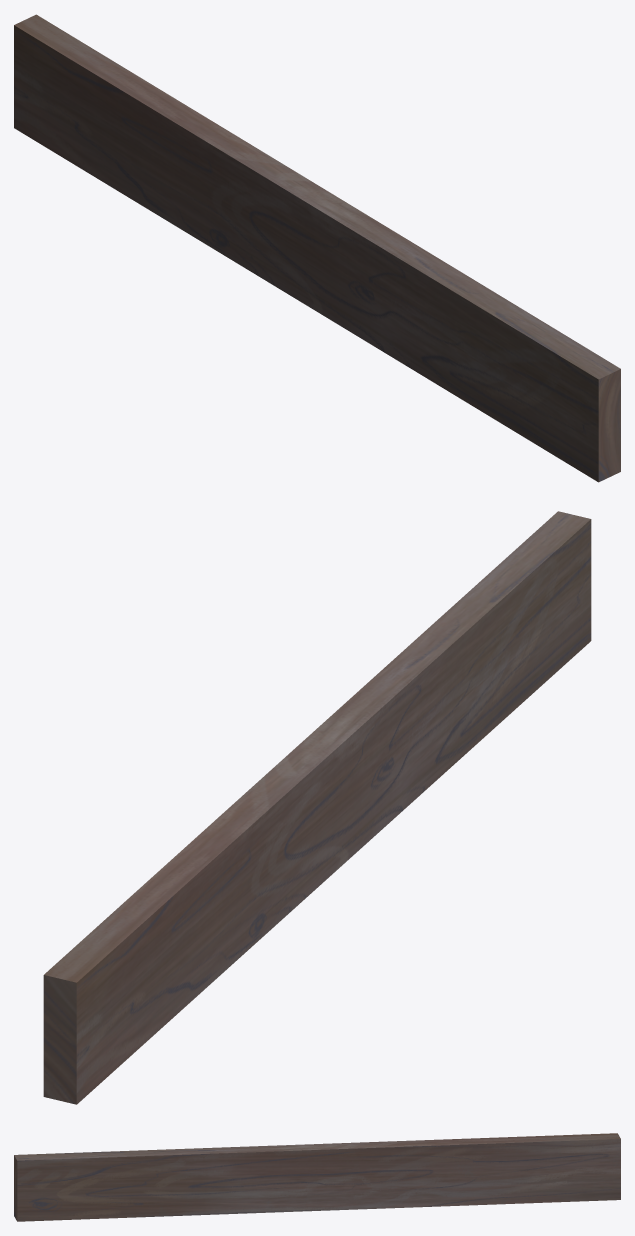
The model's file is long_board_032.fbx.
3 renders of one model, top to bottom at view 1: azimuth 30°, elevation 25°; view 2: azimuth 150°, elevation 25°; view 3: azimuth 270°, elevation 25°, orthographic. The views are drawn at different scales.
Visible parts, largest first — view 1: long board.032; view 2: long board.032; view 3: long board.032.
Part boxes in pixels (x1,y1,x2,y2): long board.032: [14, 14, 620, 482]; long board.032: [43, 511, 591, 1104]; long board.032: [14, 1133, 620, 1221].
Bounding box in the file's own units: 10.38 × 10.41 × 91.6.
